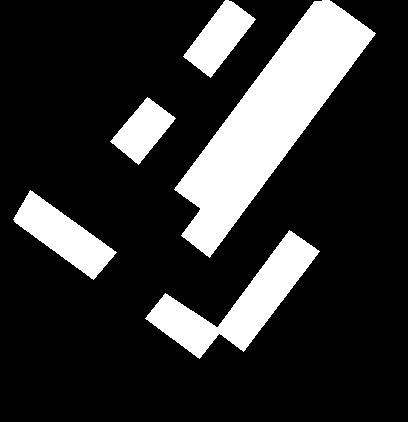parkingspot: (181, 12, 375, 257), (174, 0, 349, 210), (215, 230, 319, 351), (13, 190, 116, 279), (183, 0, 255, 77), (145, 293, 221, 358), (110, 97, 175, 164)
